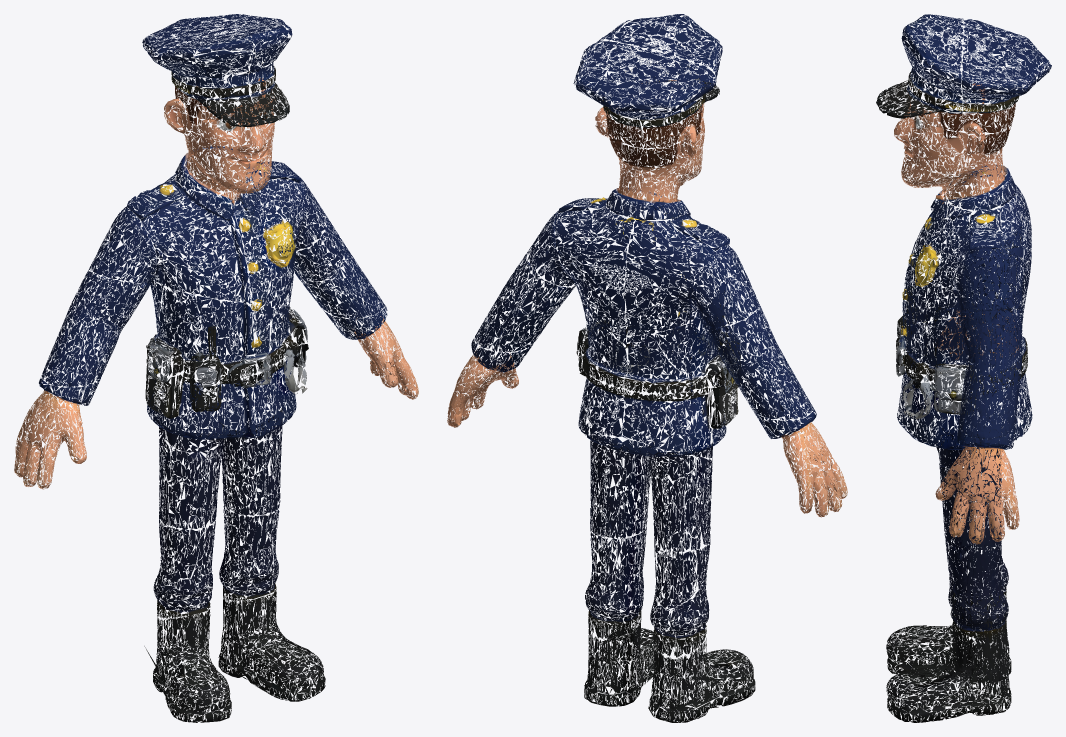
File: character_police.glb
3 views of the same model, side by side, from view 1: azimuth 30°, elevation 25°; view 2: azimuth 150°, elevation 25°; view 3: azimuth 270°, elevation 25° (orthographic).
Visible parts, largest first — view 1: tripo_node_b707bb1a-6d7c-4b59-a819-0da7e175a4c3; view 2: tripo_node_b707bb1a-6d7c-4b59-a819-0da7e175a4c3; view 3: tripo_node_b707bb1a-6d7c-4b59-a819-0da7e175a4c3.
Boxes of the visible parts, <box> form: tripo_node_b707bb1a-6d7c-4b59-a819-0da7e175a4c3: <box>14,14,418,722</box>; tripo_node_b707bb1a-6d7c-4b59-a819-0da7e175a4c3: <box>447,14,847,722</box>; tripo_node_b707bb1a-6d7c-4b59-a819-0da7e175a4c3: <box>876,14,1051,722</box>.
Size of the model in its own units: 0.5951 by 0.9798 by 0.2358.
1 material, 1 textured.
